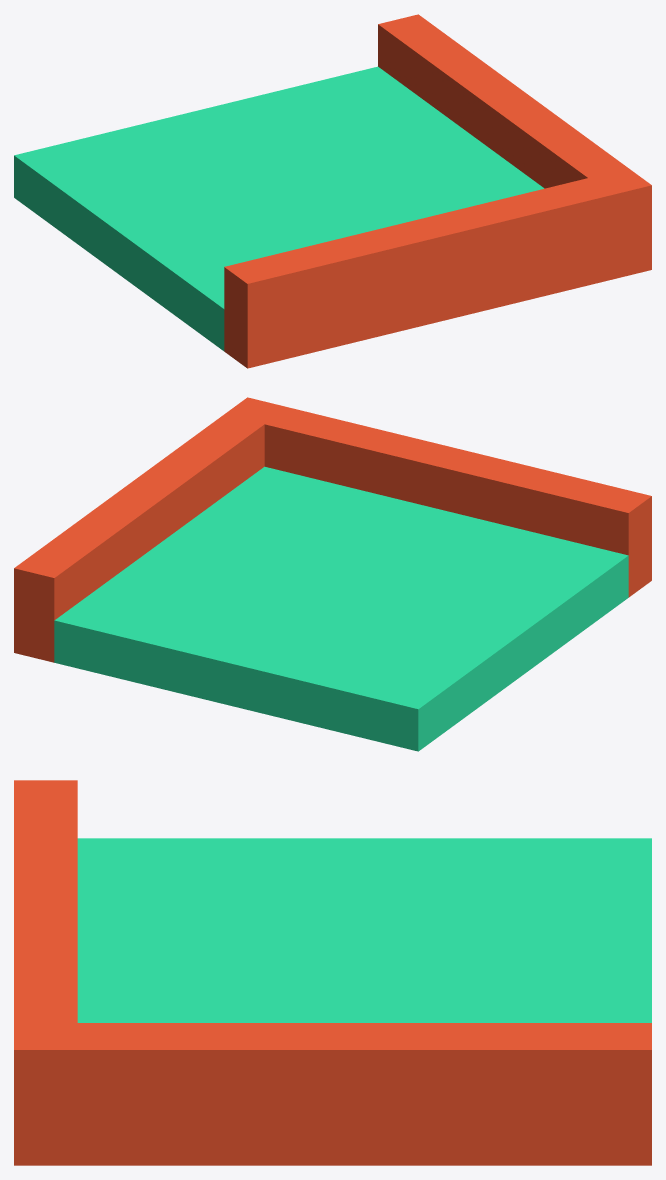
File: track_corner_normal.fbx
3 renders of one model, top to bottom at view 1: azimuth 30°, elevation 25°; view 2: azimuth 150°, elevation 25°; view 3: azimuth 270°, elevation 25°, orthographic. The views are drawn at different scales.
Parts seen in each view (by area): view 1: corner_38; view 2: corner_38; view 3: corner_38.
Boxes of the visible parts, x1,y1,x2,y2 form: corner_38: (14, 14, 651, 368); corner_38: (14, 397, 651, 751); corner_38: (14, 780, 651, 1165).
Size of the model in its own units: 10 by 2 by 10.
